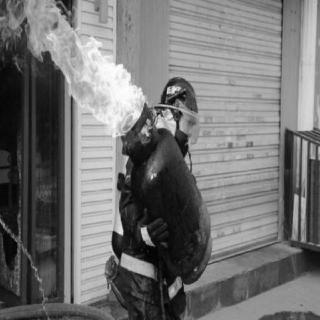Fire: (3, 0, 152, 139)
